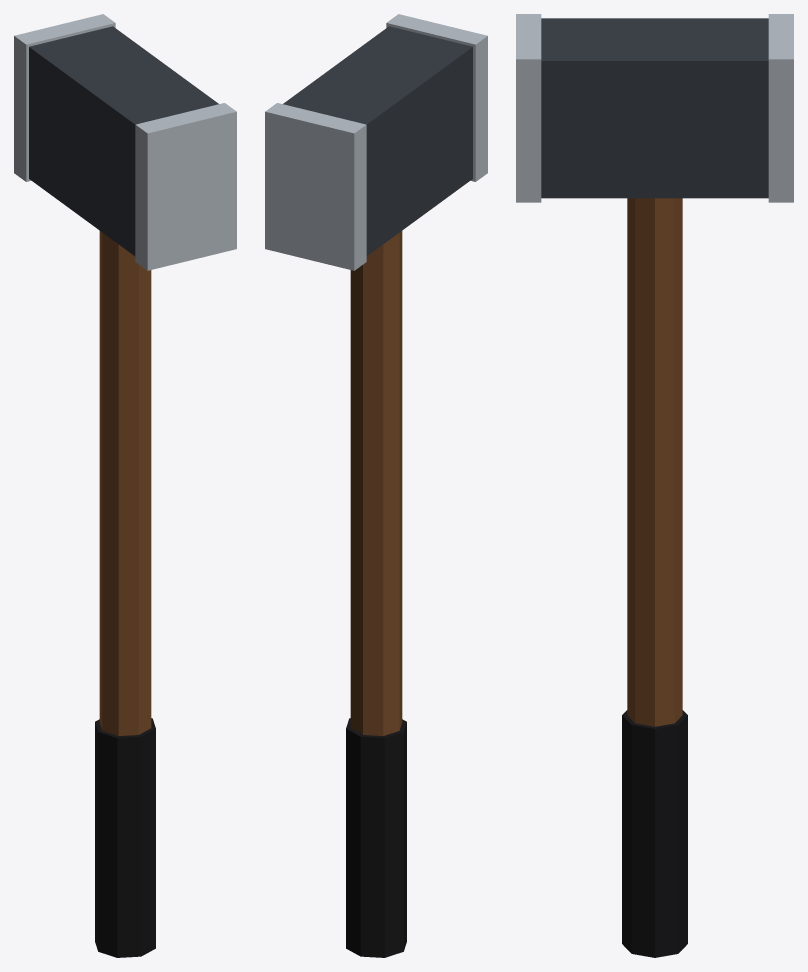
Rendered from Weapon_Sledgehammer.obj.
3 views of the same model, side by side, from view 1: azimuth 30°, elevation 25°; view 2: azimuth 150°, elevation 25°; view 3: azimuth 270°, elevation 25° (orthographic). The views are drawn at different scales.
Parts seen in each view (by area): view 1: HeavyShaft, SteelSledgeHead, FrontStrikeFace, LowerGrip, BackStrikeFace; view 2: HeavyShaft, SteelSledgeHead, BackStrikeFace, LowerGrip, FrontStrikeFace; view 3: SteelSledgeHead, HeavyShaft, LowerGrip, BackStrikeFace, FrontStrikeFace.
Boxes of the visible parts, left/top/right/bottom form: HeavyShaft: left=99, top=231, right=151, bottom=735; SteelSledgeHead: left=29, top=26, right=218, bottom=256; FrontStrikeFace: left=135, top=103, right=236, bottom=270; LowerGrip: left=95, top=718, right=155, bottom=957; BackStrikeFace: left=14, top=14, right=115, bottom=181; HeavyShaft: left=350, top=231, right=402, bottom=735; SteelSledgeHead: left=283, top=26, right=472, bottom=256; BackStrikeFace: left=265, top=103, right=366, bottom=270; LowerGrip: left=346, top=718, right=406, bottom=957; FrontStrikeFace: left=386, top=14, right=487, bottom=181; SteelSledgeHead: left=541, top=18, right=768, bottom=198; HeavyShaft: left=627, top=198, right=682, bottom=726; LowerGrip: left=622, top=710, right=687, bottom=957; BackStrikeFace: left=768, top=14, right=793, bottom=202; FrontStrikeFace: left=516, top=14, right=541, bottom=202.
Size of the model in its own units: 0.085 by 0.7925 by 0.22.
